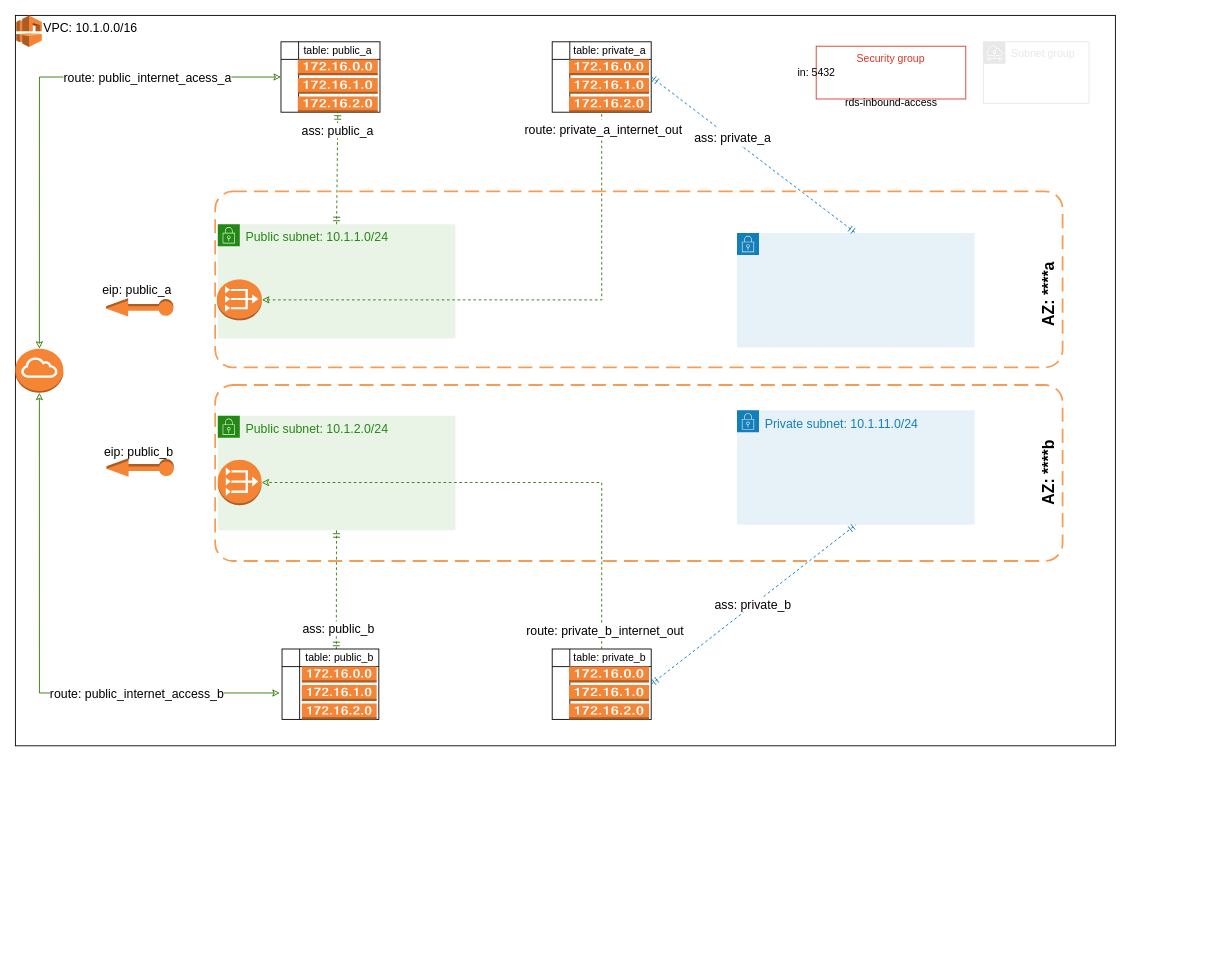
The diagram is 1228 pixels wide and 963 high, and some of its shapes have lost their labels. Each missing label, with the centre of its shape:
main: point 39,370
Private subnet: 10.1.10.0/24: point 855,289
